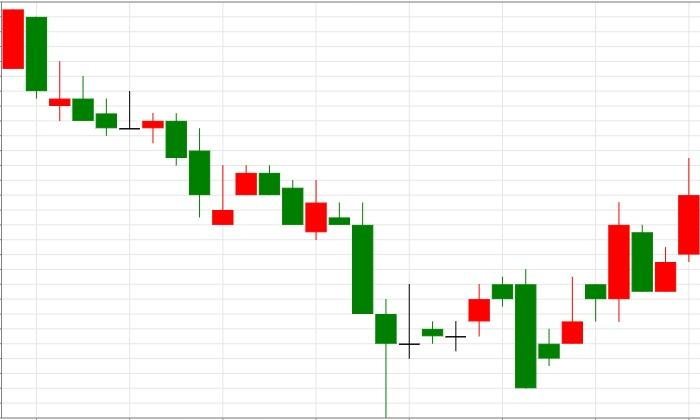inverse_hammer_rise: (26, 16, 234, 225)
